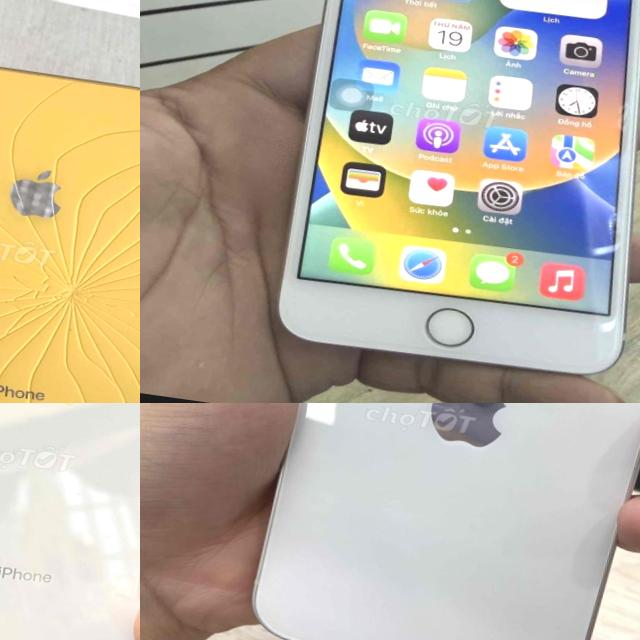gen_12_13: (238, 403, 640, 640)
gen_7_8: (249, 0, 640, 397)
gen_x_xs: (0, 48, 140, 403), (0, 403, 140, 640)
